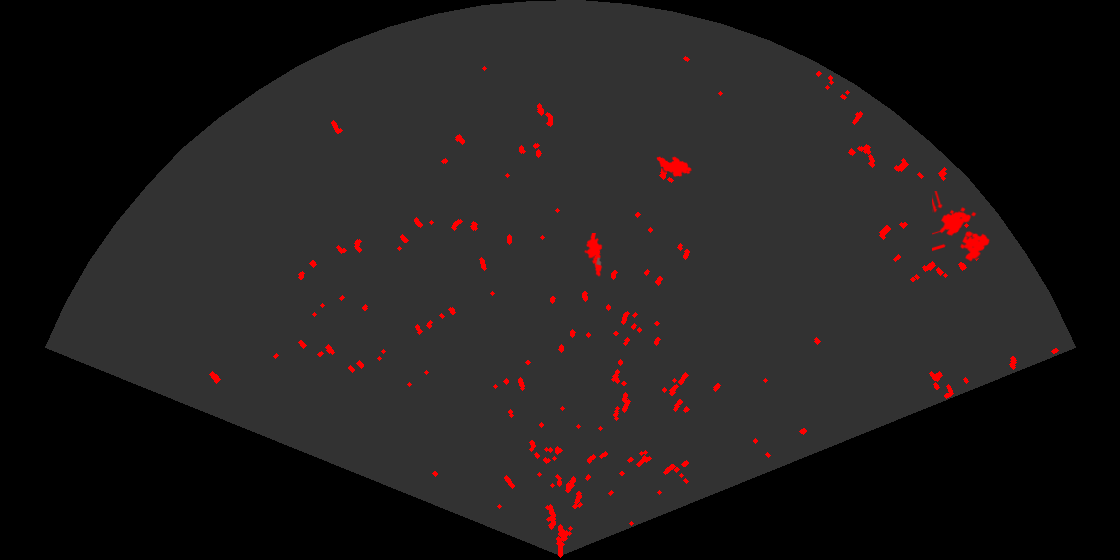AUV: (655, 155, 694, 179)
cage: (932, 191, 991, 263)
frogman: (582, 233, 604, 277)
